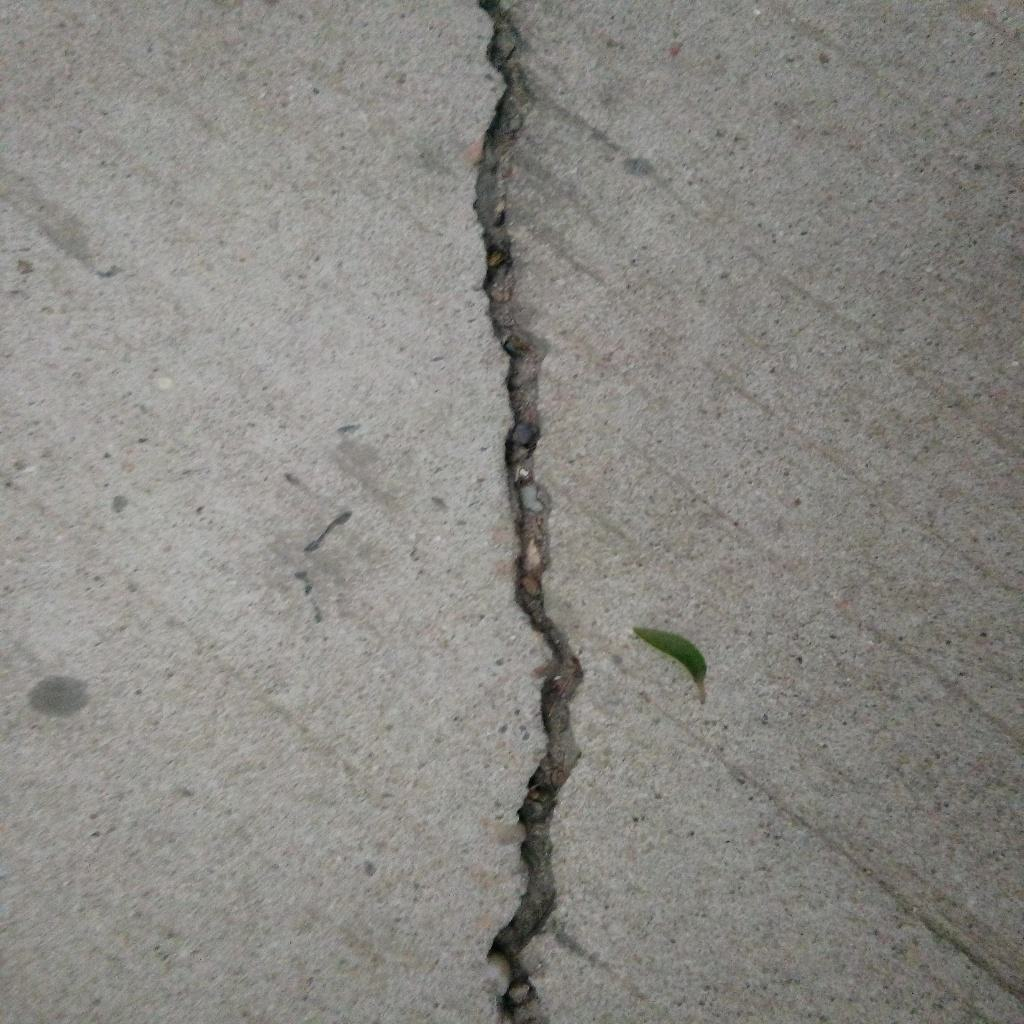Crack: (474, 1, 585, 1024)
